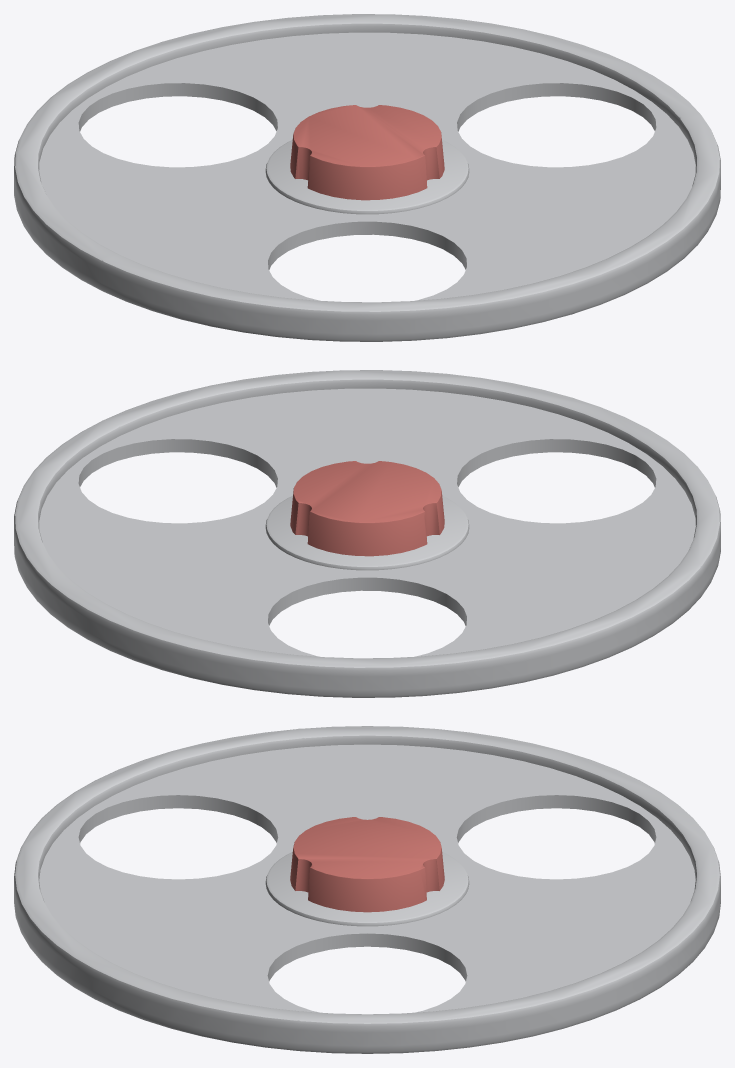
Rendered from reel.glb.
The picture shows the model from 3 angles, top to bottom: view 1: azimuth 30°, elevation 25°; view 2: azimuth 150°, elevation 25°; view 3: azimuth 270°, elevation 25°; orthographic projection.
Visible parts, largest first — view 1: Reel; view 2: Reel; view 3: Reel.
Part boxes in pixels (bbox=[...]): Reel: bbox=[14, 14, 720, 341]; Reel: bbox=[14, 370, 720, 697]; Reel: bbox=[14, 726, 720, 1053].
Bounding box in the file's own units: 0.17 × 0.0155 × 0.17.
